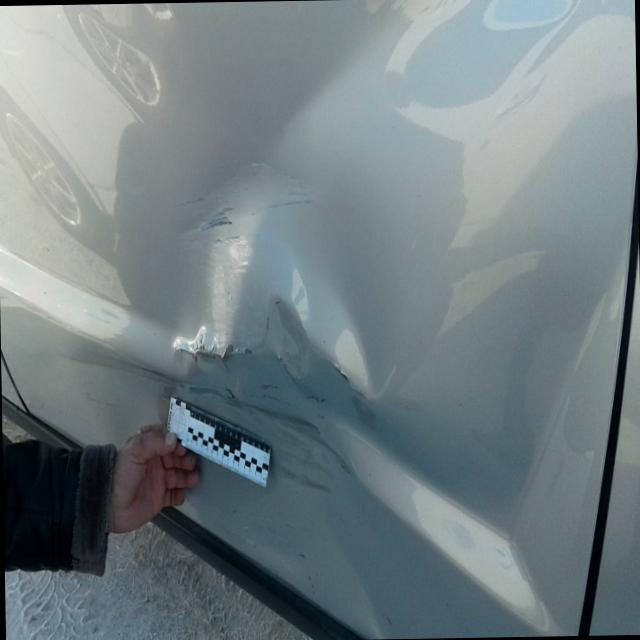Cabossage: (84, 59, 519, 580)
Dechirure: (159, 331, 269, 369), (319, 341, 369, 406)
Rayure: (175, 373, 344, 492), (178, 158, 312, 238)
